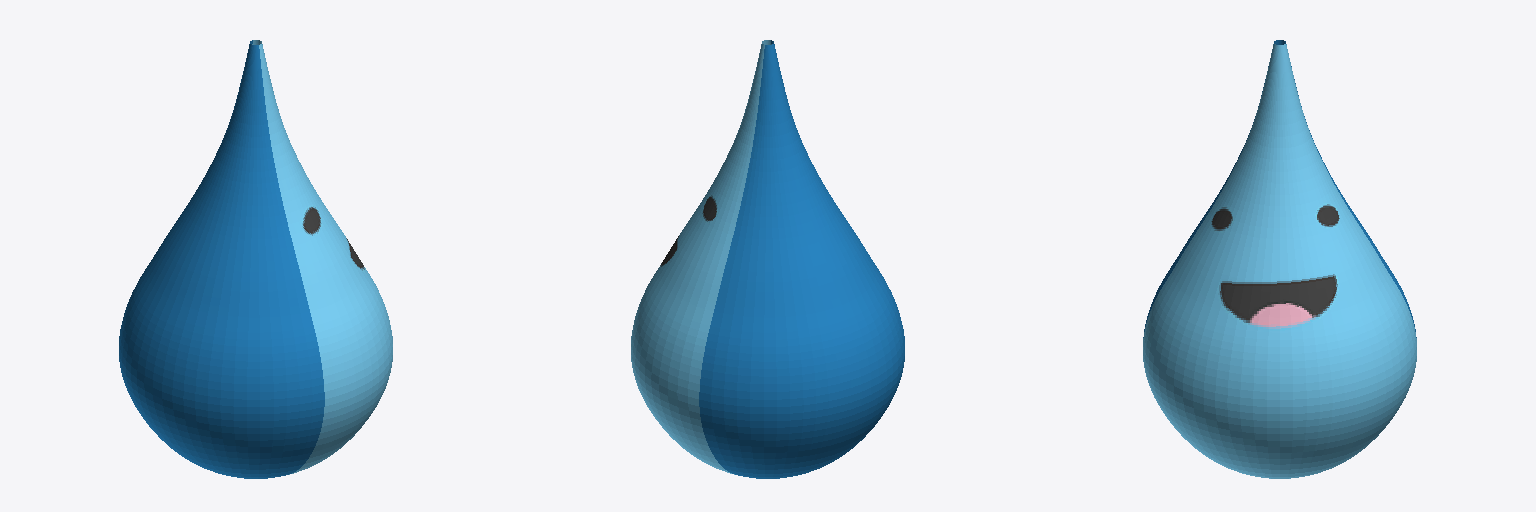
The picture shows the model from 3 angles: view 1: azimuth 30°, elevation 25°; view 2: azimuth 150°, elevation 25°; view 3: azimuth 270°, elevation 25°; orthographic projection.
Visible parts, largest first — view 1: Circle_Circle.001; view 2: Circle_Circle.001; view 3: Circle_Circle.001.
Boxes of the visible parts, x1,y1,x2,y2 form: Circle_Circle.001: [119, 40, 392, 478]; Circle_Circle.001: [631, 40, 904, 478]; Circle_Circle.001: [1143, 40, 1416, 478].
Bounding box in the file's own units: 2.81 × 4.82 × 2.81.
Materials: 2 (1 with a texture image).